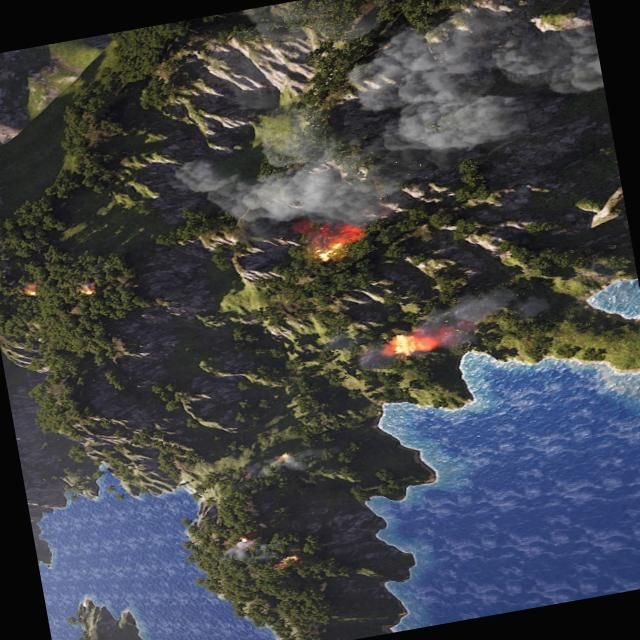fire: (303, 222, 362, 267), (376, 324, 438, 366), (269, 553, 299, 571), (77, 280, 98, 298), (23, 282, 41, 298), (238, 531, 252, 544), (278, 450, 291, 458)
smoke: (154, 0, 619, 251), (319, 276, 554, 376), (254, 442, 326, 477), (215, 532, 284, 565)
